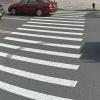Crosswalk: (15, 15, 77, 99)
